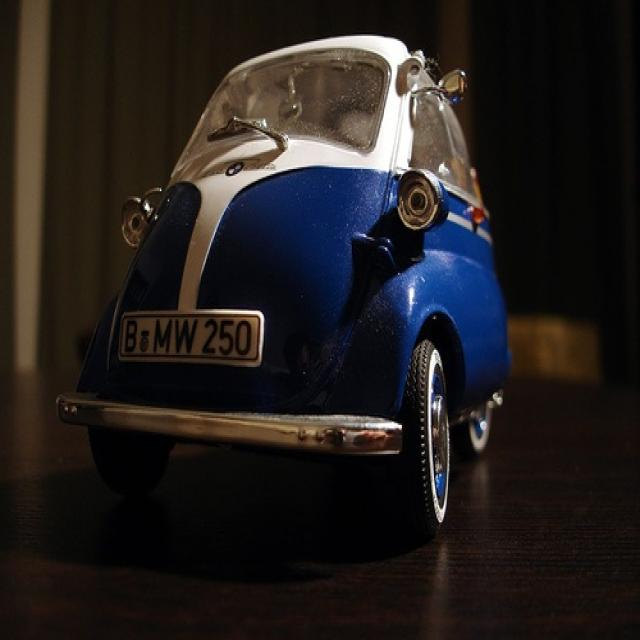car: (54, 29, 512, 536)
